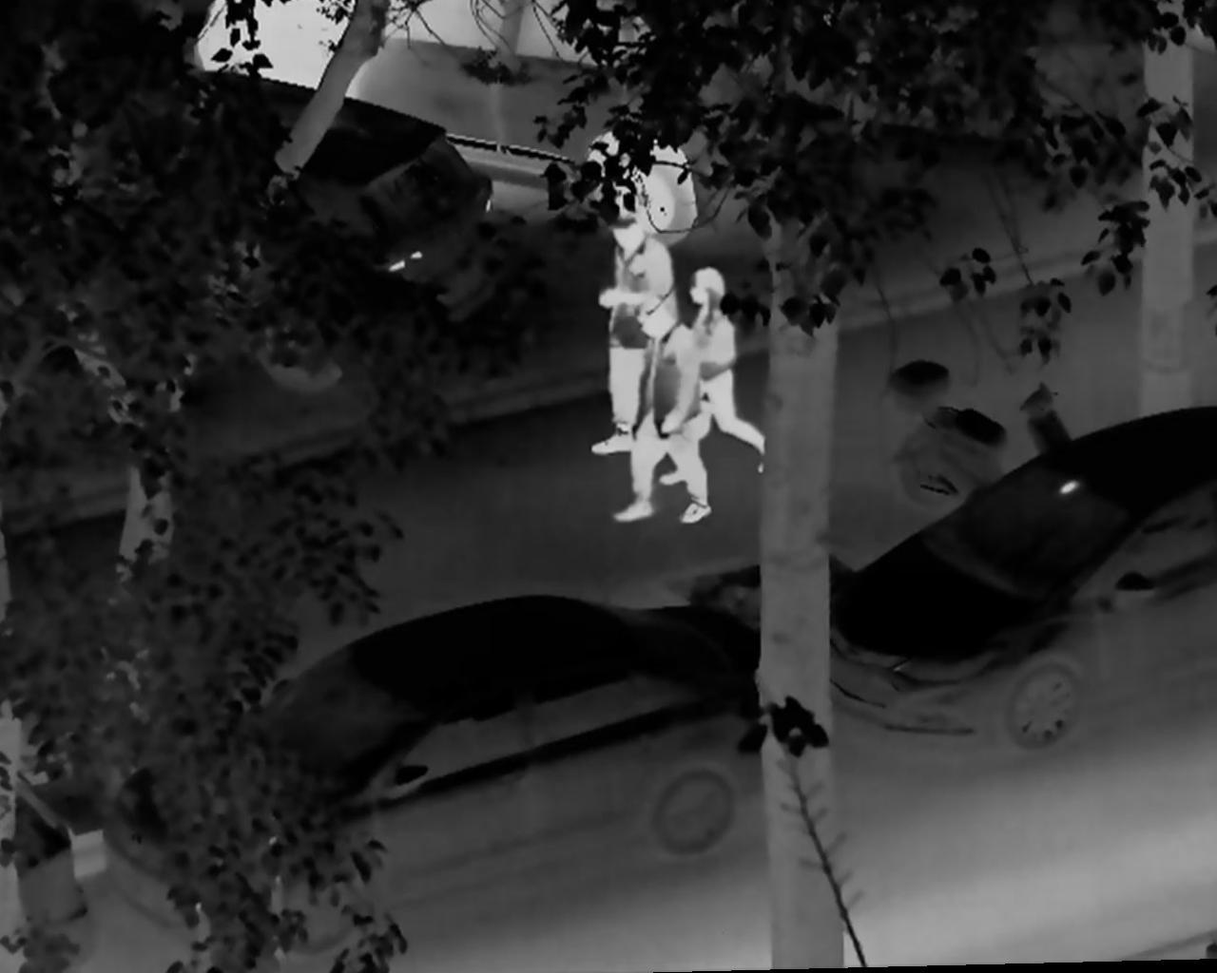person: (582, 210, 696, 460), (654, 266, 773, 488), (604, 301, 715, 529)
